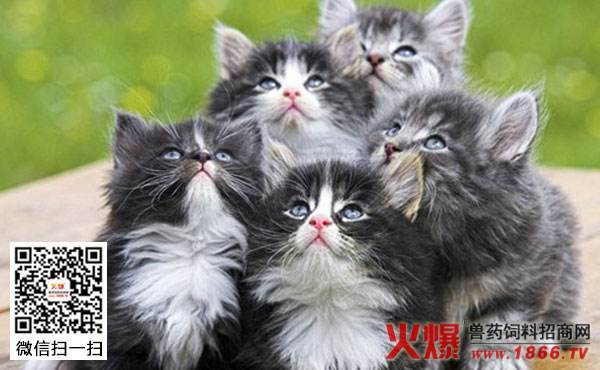cat: (370, 88, 580, 326), (85, 110, 253, 358), (260, 139, 431, 367), (202, 19, 373, 168), (318, 4, 471, 96)
